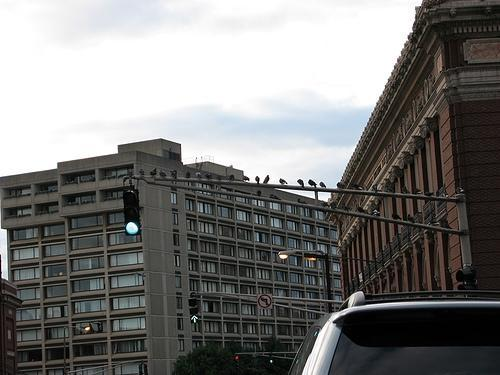car: (290, 290, 500, 371)
